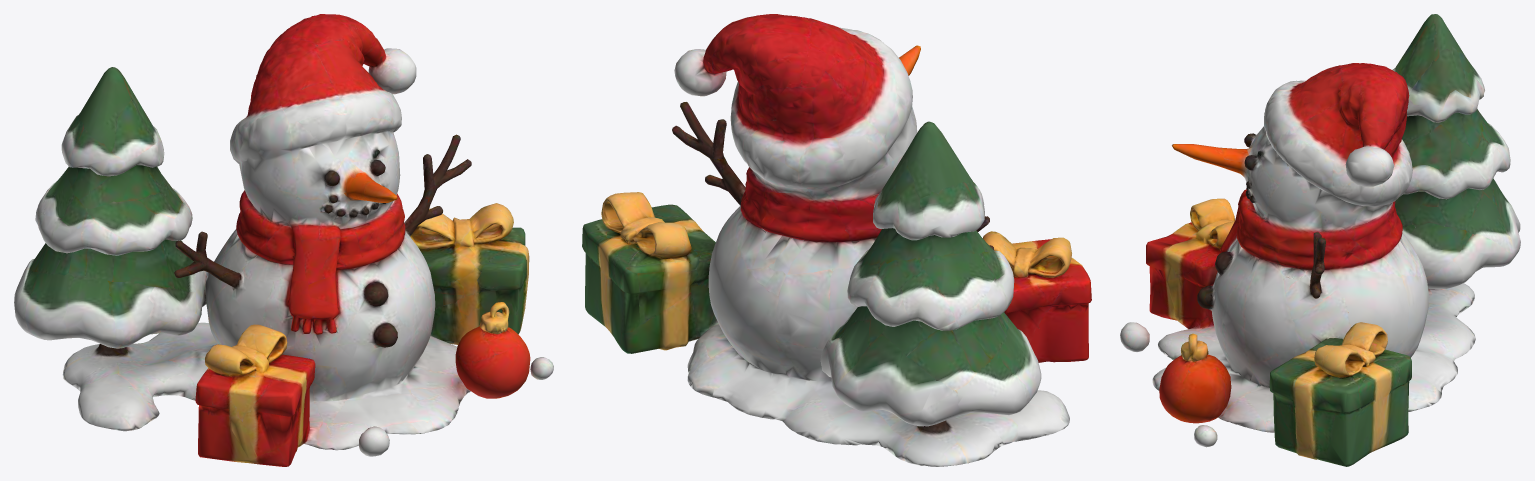
The model's file is xm_snowman.glb.
The picture shows the model from 3 angles, left to right: view 1: azimuth 30°, elevation 25°; view 2: azimuth 150°, elevation 25°; view 3: azimuth 270°, elevation 25°; orthographic projection. The views are drawn at different scales.
Bounding box in the file's own units: 0.0726 × 0.05 × 0.0578.
Materials: 1 (1 with a texture image).
